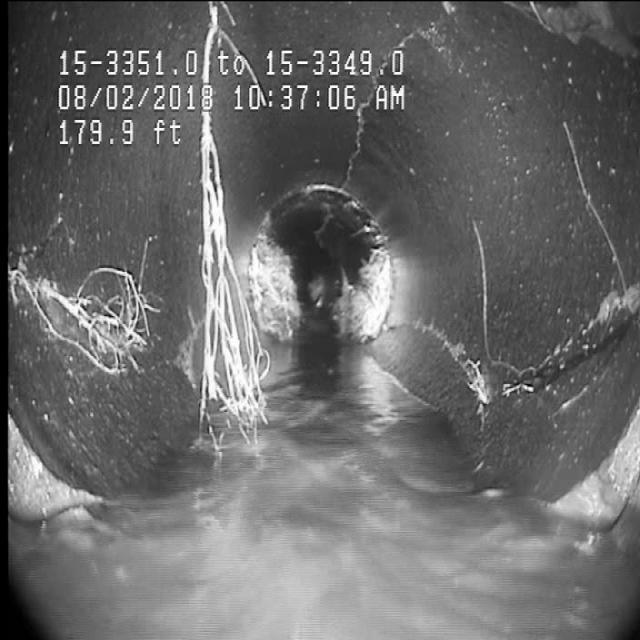Fracture: (459, 304, 631, 406)
